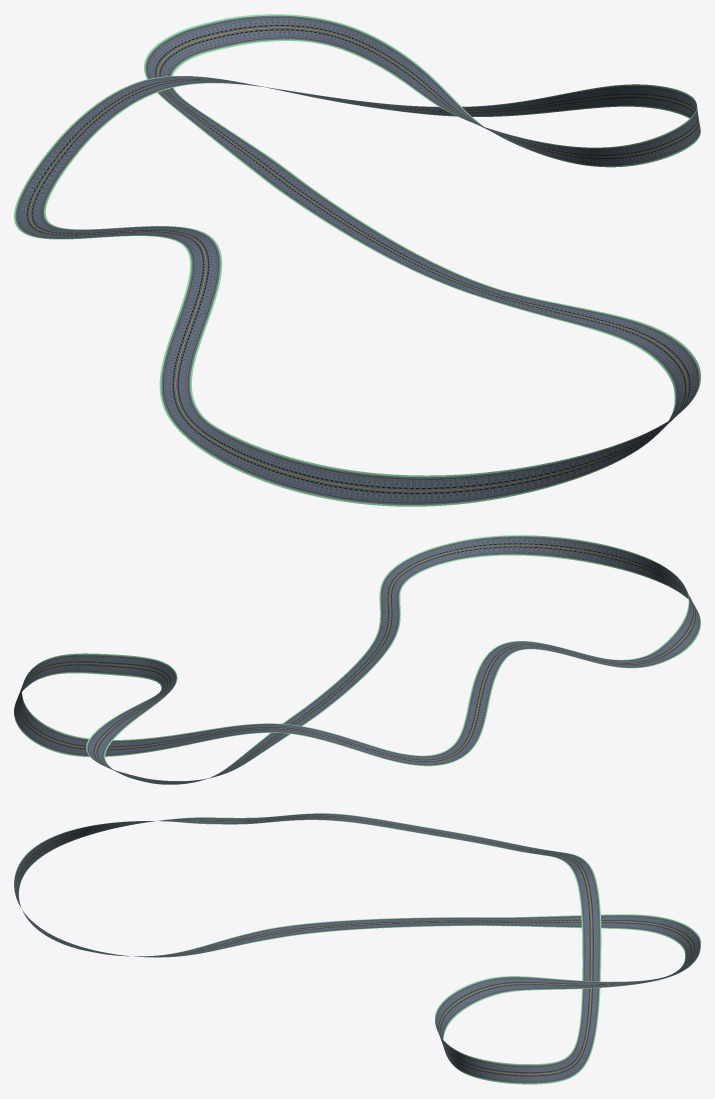
The model's file is Track_Surface.fbx.
The picture shows the model from 3 angles, top to bottom: view 1: azimuth 30°, elevation 25°; view 2: azimuth 150°, elevation 25°; view 3: azimuth 270°, elevation 25°; orthographic projection. The views are drawn at different scales.
Visible parts, largest first — view 1: Track_Surface; view 2: Track_Surface; view 3: Track_Surface.
Part boxes in pixels (x1,y1,x2,y2): Track_Surface: (14, 14, 700, 506); Track_Surface: (14, 535, 700, 784); Track_Surface: (14, 813, 700, 1084).
Size of the model in its own units: 526 by 93.27 by 655.
